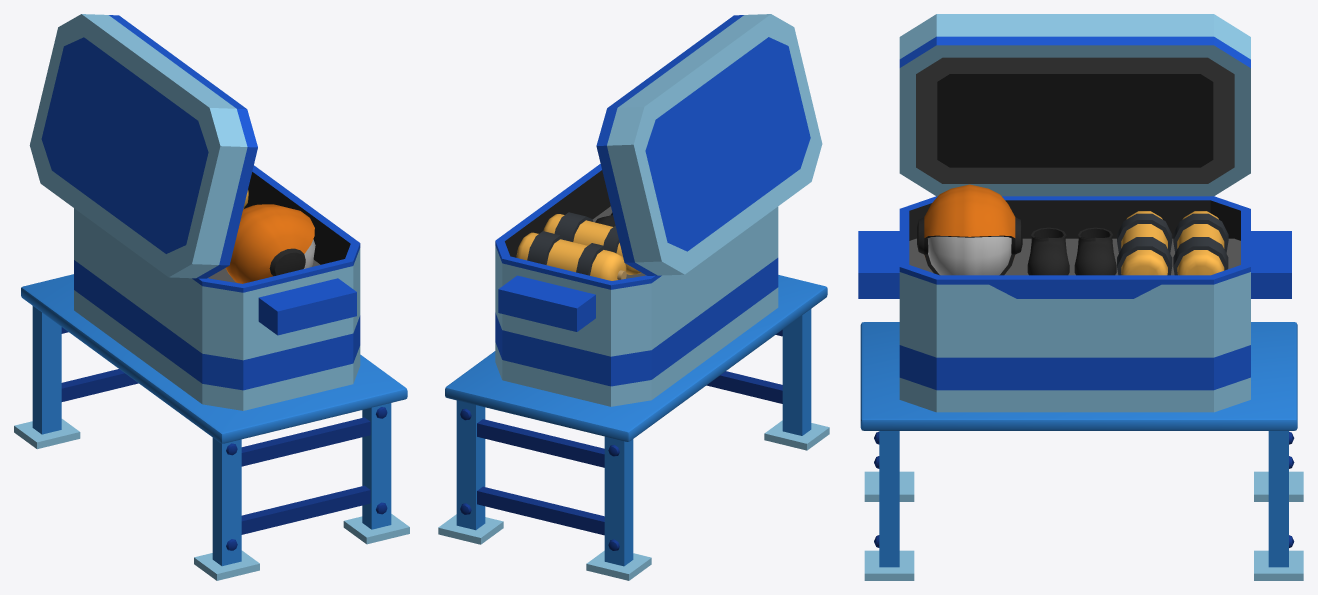
Rendered from M_oxygen_upgrade.fbx.
The picture shows the model from 3 angles, left to right: view 1: azimuth 30°, elevation 25°; view 2: azimuth 150°, elevation 25°; view 3: azimuth 270°, elevation 25°; orthographic projection. The views are drawn at different scales.
Visible parts, largest first — view 1: M_Player_upgrade; view 2: M_Player_upgrade; view 3: M_Player_upgrade.
Part boxes in pixels (x1,y1,x2,y2): M_Player_upgrade: (14, 14, 409, 580); M_Player_upgrade: (438, 14, 829, 580); M_Player_upgrade: (858, 14, 1303, 580).
Bounding box in the file's own units: 1.59 × 3.24 × 2.73.
